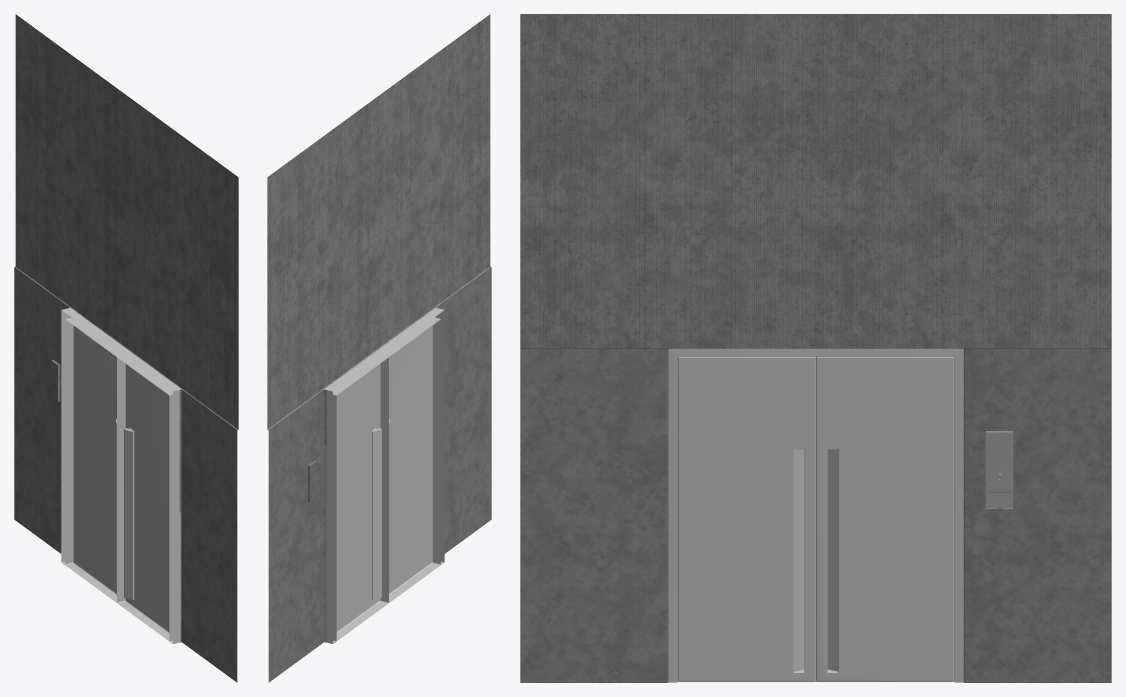
The model's file is SM_Doors_01.fbx.
3 views of the same model, side by side, from view 1: azimuth 30°, elevation 25°; view 2: azimuth 150°, elevation 25°; view 3: azimuth 270°, elevation 25° (orthographic). The views are drawn at different scales.
Parts seen in each view (by area): view 1: SM_Doors_01; view 2: SM_Doors_01; view 3: SM_Doors_01.
Boxes of the visible parts, x1,y1,x2,y2 form: SM_Doors_01: [14, 14, 238, 682]; SM_Doors_01: [267, 14, 491, 682]; SM_Doors_01: [520, 14, 1111, 682].
Size of the model in its own units: 10.55 by 500 by 400.
